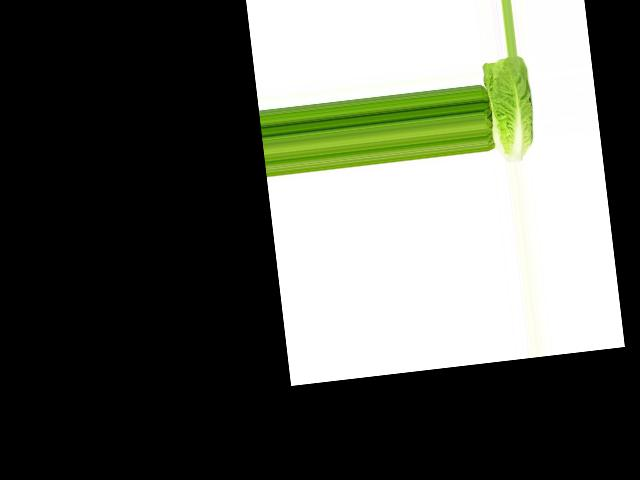lettuce: (483, 53, 545, 163)
